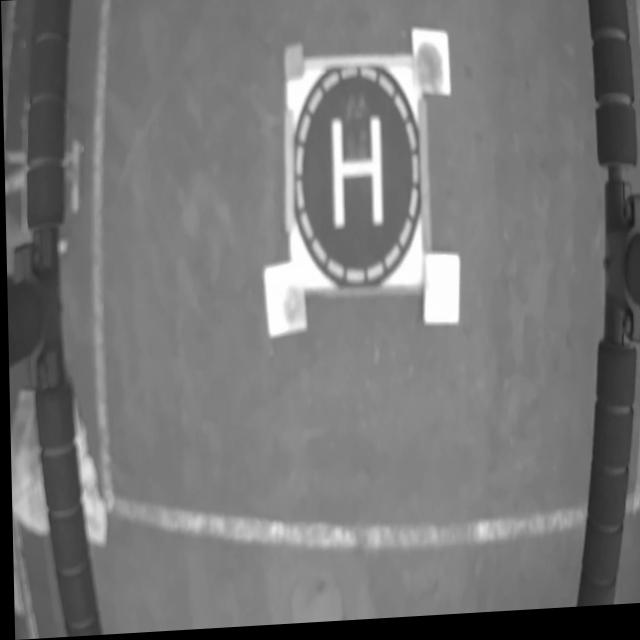Helipad: (328, 122, 382, 230)
